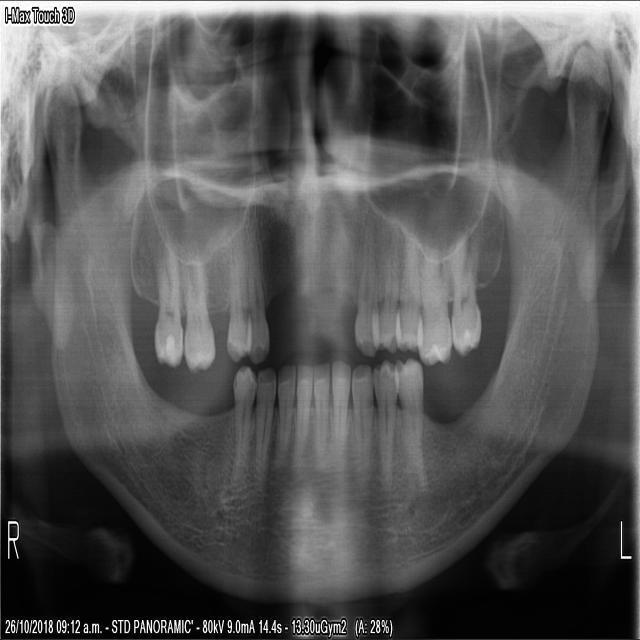LCD: (348, 355, 375, 507)
LCU: (350, 210, 379, 361)
LID: (327, 349, 353, 475), (310, 351, 331, 478)
LMU: (413, 230, 452, 370), (444, 219, 482, 358)
LPMD: (391, 351, 429, 501), (369, 352, 399, 500)
LPMU: (368, 215, 401, 357), (391, 224, 425, 354)
RCD: (248, 356, 276, 488)
RID: (287, 357, 314, 483), (269, 356, 297, 477)
RMU: (176, 225, 216, 378), (149, 239, 183, 370)
RPMD: (223, 361, 258, 501)
RPMU: (242, 212, 270, 366), (222, 221, 252, 363)
